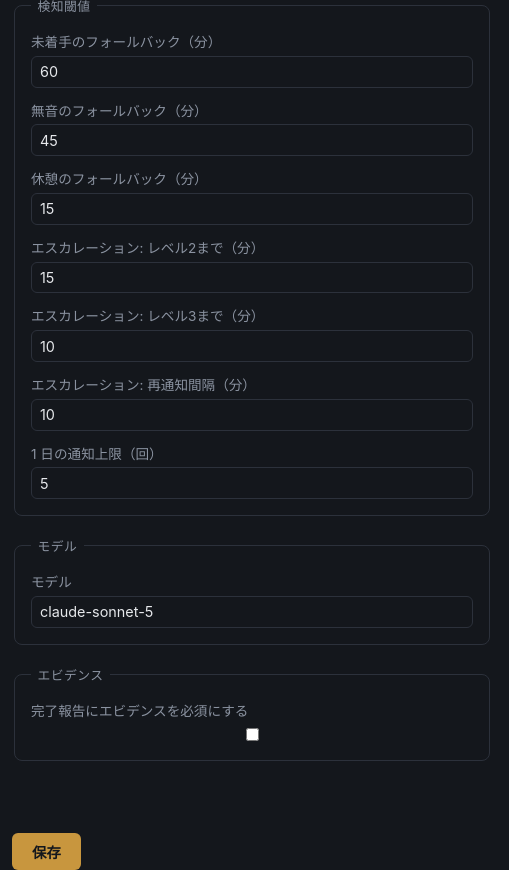
Test: SettingsView › 会の時刻と稼働時間帯の整合警告（#708） › 警告ありの保存成功でも「保存しました」は role=status に表示される（#712）
(page scrolled)
Click the button "保存": point(46, 851) [12,832,81,869]
(page scrolled)
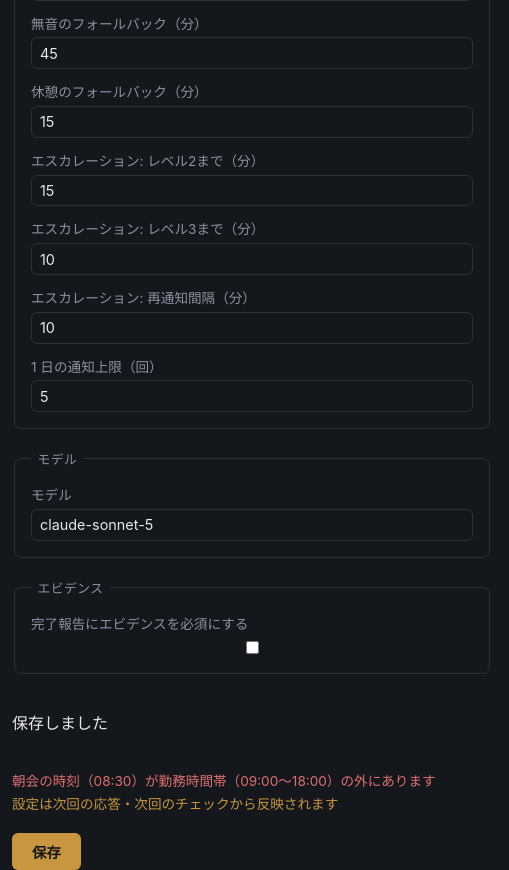
Now the message "保存しました" is shown, box [12,712,108,732]
Now the message "朝会の時刻（08:30）が勤務時間帯（09:00〜18:00）の外にあります" is shown, box [12,770,492,790]
